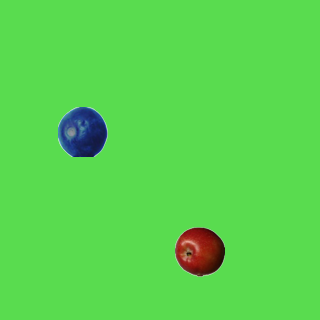Apple Braeburn: (174, 226, 224, 276)
Huckleberry: (57, 106, 107, 156)
